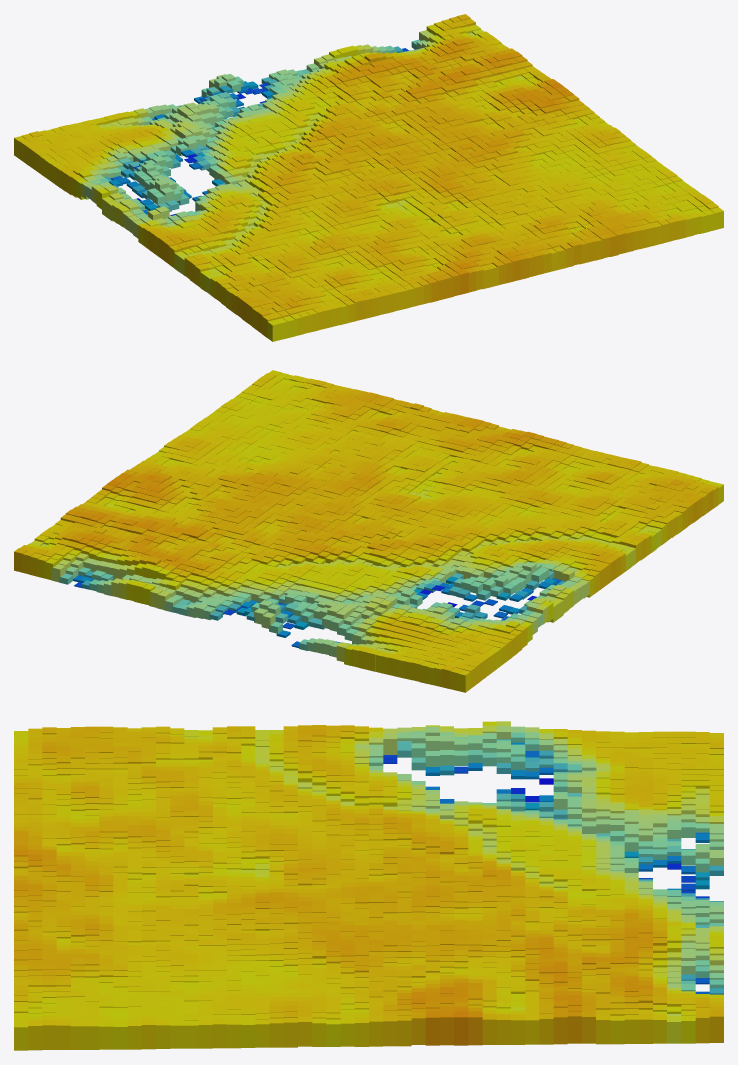
Rendered from population.glb.
The picture shows the model from 3 angles, top to bottom: view 1: azimuth 30°, elevation 25°; view 2: azimuth 150°, elevation 25°; view 3: azimuth 270°, elevation 25°; orthographic projection. The views are drawn at different scales.
Parts seen in each view (by area): view 1: population; view 2: population; view 3: population.
Boxes of the visible parts, <box> form: population: <box>14,14,723,341</box>; population: <box>14,370,723,692</box>; population: <box>14,721,723,1050</box>.
Bounding box in the file's own units: 5041 × 442 × 5000.
